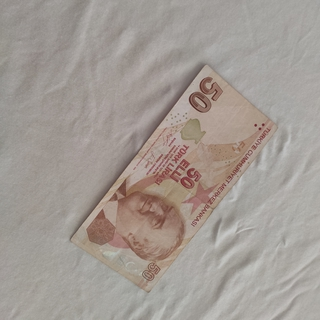50TLFront: (69, 62, 280, 294)
